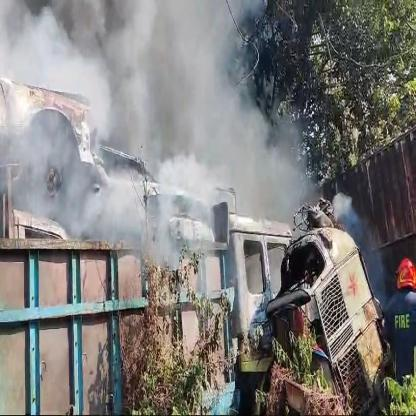Smoke: (0, 0, 311, 297)
